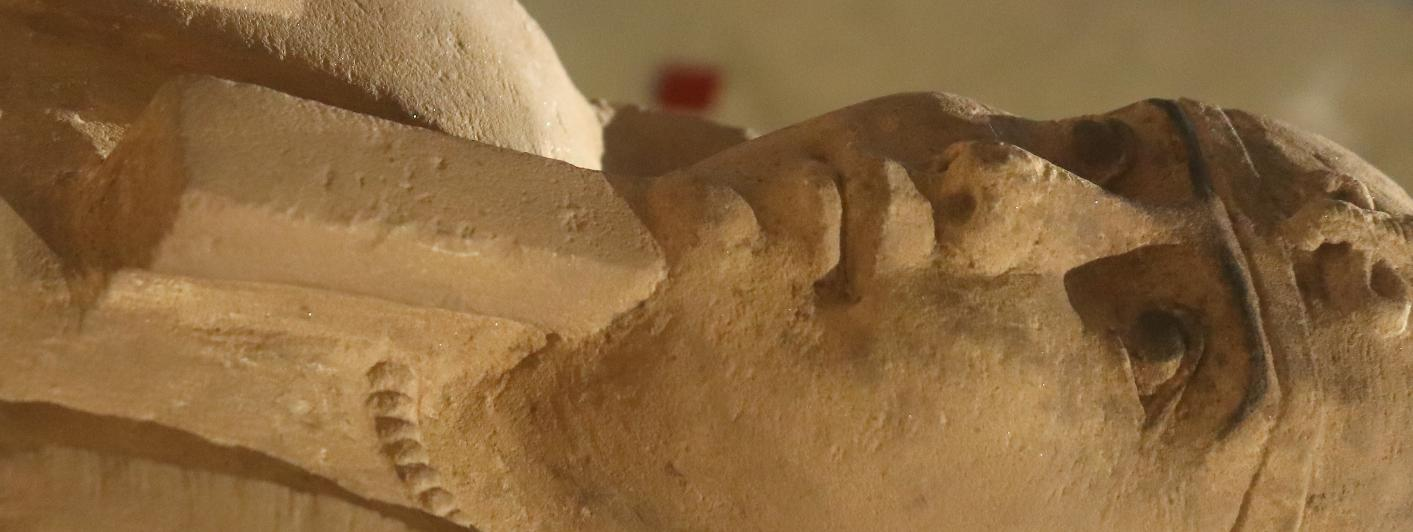statue_ofthe_sphinx: (0, 0, 853, 532), (0, 0, 852, 532)
